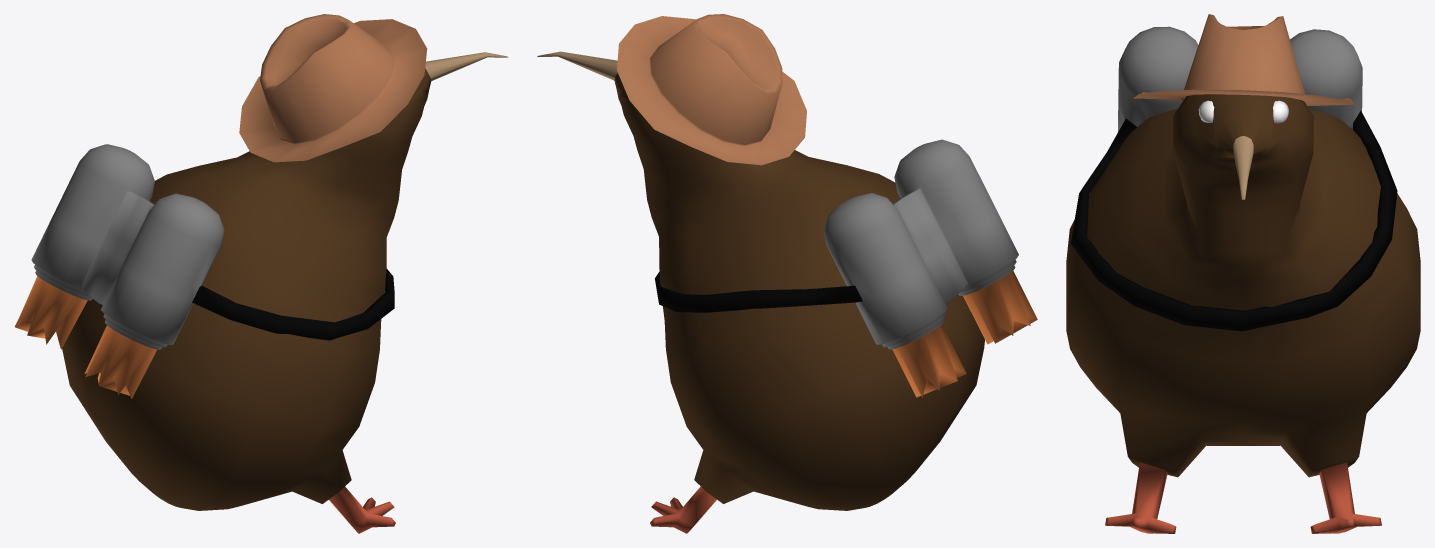
Rendered from kiwi con feugo para substance.fbx.
The picture shows the model from 3 angles, left to right: view 1: azimuth 30°, elevation 25°; view 2: azimuth 150°, elevation 25°; view 3: azimuth 270°, elevation 25°; orthographic projection. The views are drawn at different scales.
Visible parts, largest first — view 1: Kiwi, Cylinder; view 2: Kiwi, Cylinder; view 3: Kiwi, Cylinder.
Boxes of the visible parts, x1,y1,x2,y2 form: Kiwi: (62, 52, 508, 533); Cylinder: (15, 14, 427, 398); Kiwi: (537, 51, 984, 533); Cylinder: (617, 14, 1037, 397); Kiwi: (1066, 94, 1420, 533); Cylinder: (1070, 14, 1397, 331).
Bounding box in the file's own units: 471 × 464 × 285.
